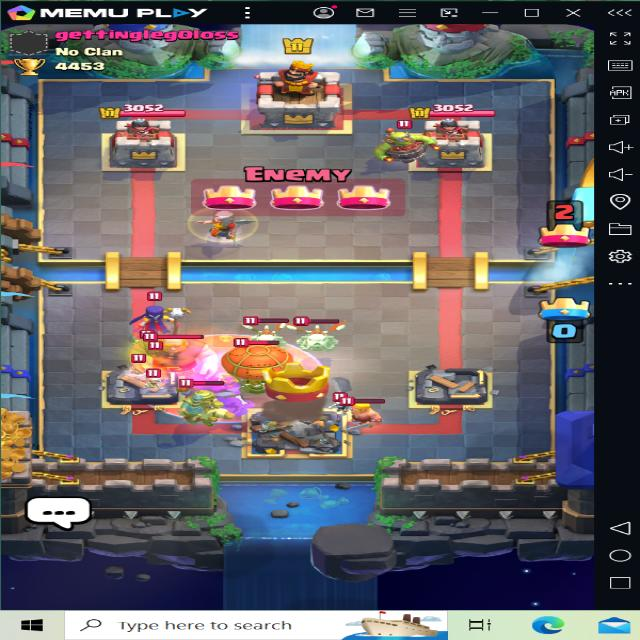balloon: (217, 335, 286, 399)
barbarian: (337, 393, 382, 424)
battle-healer: (190, 196, 260, 244)
giant: (125, 319, 213, 370)
goblin-demolisher: (368, 118, 453, 165)
prince: (181, 376, 233, 427)
skeleton: (136, 366, 163, 386)
skeleton-dragon: (232, 316, 291, 351), (289, 316, 346, 352)
witch: (133, 292, 178, 333)
